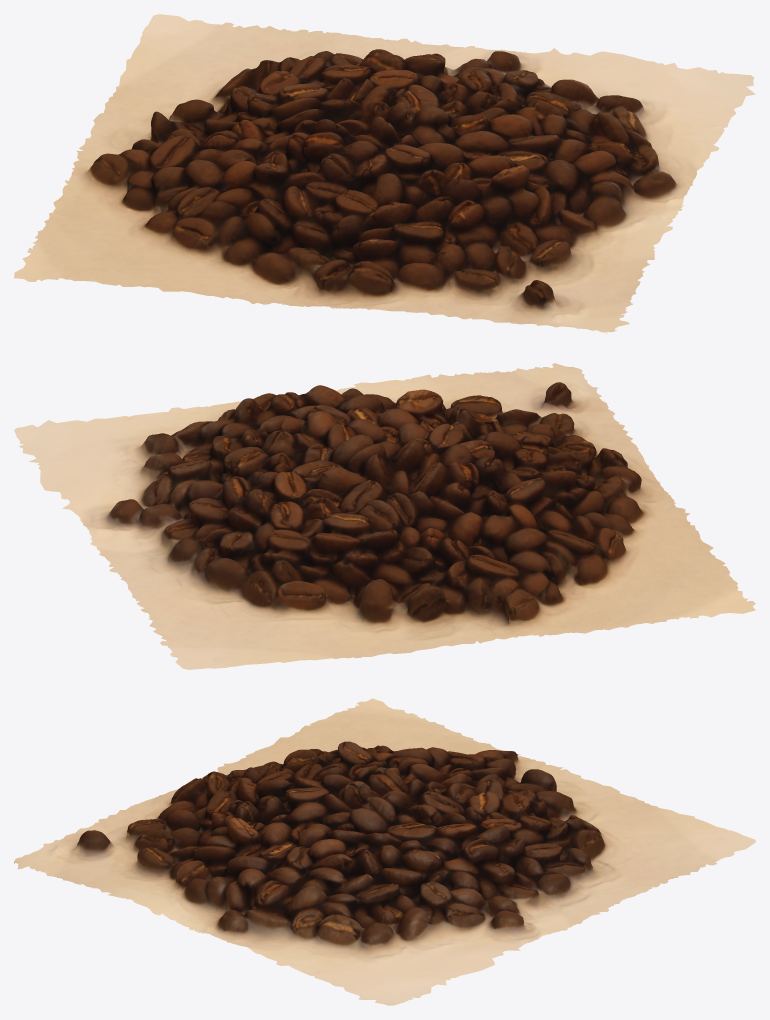
The model's file is coffee_beans-_autodesk_memento.glb.
3 views of the same model, one above another, from view 1: azimuth 30°, elevation 25°; view 2: azimuth 150°, elevation 25°; view 3: azimuth 270°, elevation 25° (orthographic). The views are drawn at different scales.
Parts seen in each view (by area): view 1: Object_3, Object_2, Object_4; view 2: Object_2, Object_3, Object_4; view 3: Object_3, Object_2, Object_4.
Part boxes in pixels (<box>): Object_3: <box>22,14,755,323</box>; Object_2: <box>51,22,703,333</box>; Object_4: <box>14,80,682,330</box>; Object_2: <box>72,363,669,664</box>; Object_3: <box>14,376,739,669</box>; Object_4: <box>139,370,755,627</box>; Object_3: <box>51,706,755,1005</box>; Object_2: <box>14,729,732,956</box>; Object_4: <box>23,698,474,958</box>.
Bounding box in the file's own units: 0.3553 × 0.0365 × 0.3516.
Materials: 1 (1 with a texture image).
